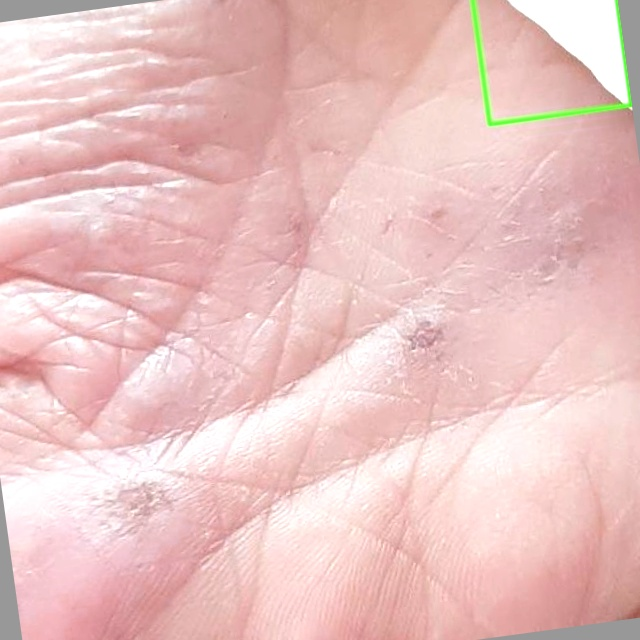Contact Dermatitis: (472, 0, 630, 124)
